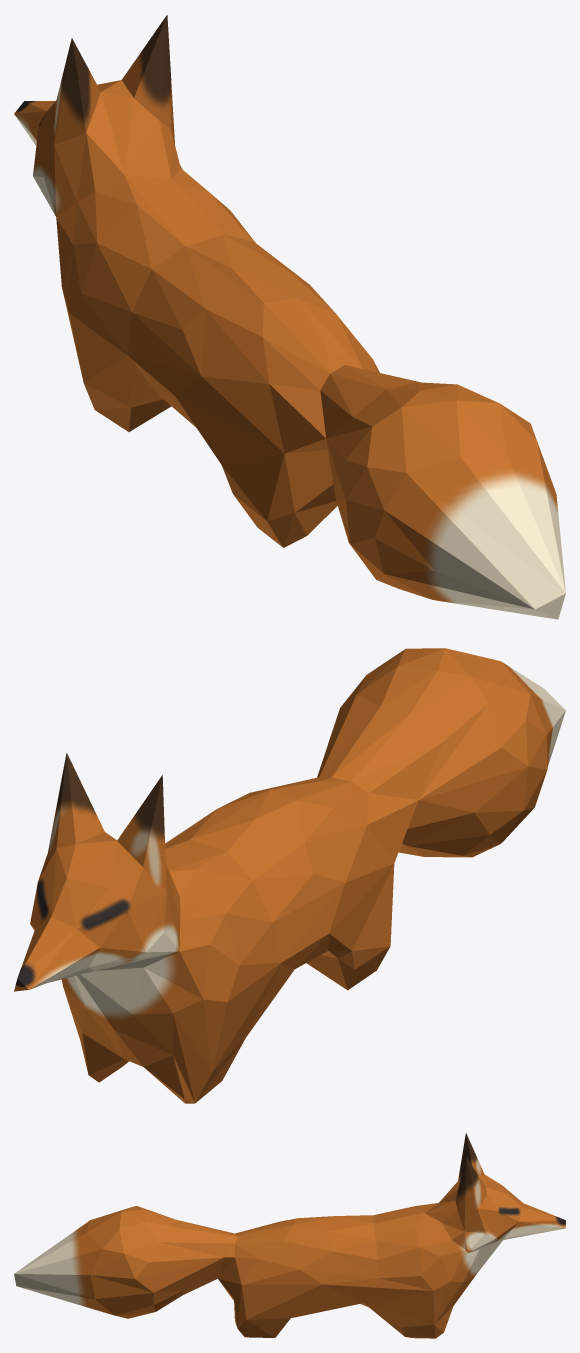
Rendered from animal_fox_red_blob.obj.
3 renders of one model, top to bottom at view 1: azimuth 30°, elevation 25°; view 2: azimuth 150°, elevation 25°; view 3: azimuth 270°, elevation 25°, orthographic. The views are drawn at different scales.
Parts seen in each view (by area): view 1: animal_fox_red_blob; view 2: animal_fox_red_blob; view 3: animal_fox_red_blob.
Part boxes in pixels (box(x1,y1,x2,y2)): animal_fox_red_blob: box(14, 15, 565, 619); animal_fox_red_blob: box(14, 648, 565, 1103); animal_fox_red_blob: box(14, 1133, 565, 1338).
Bounding box in the file's own units: 0.281 × 0.5043 × 1.38.
